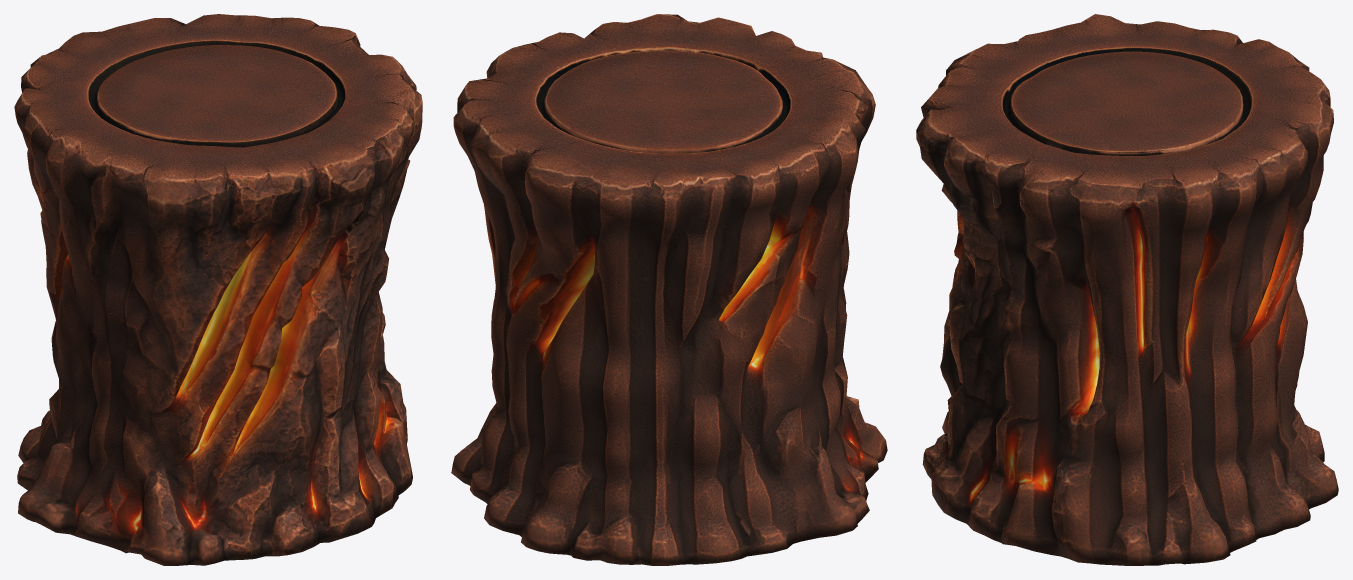
File: battleStand.fbx.fbx
The picture shows the model from 3 angles, left to right: view 1: azimuth 30°, elevation 25°; view 2: azimuth 150°, elevation 25°; view 3: azimuth 270°, elevation 25°; orthographic projection.
Parts seen in each view (by area): view 1: tripo_61a50983_4ac2_42df_8549_9e54bf2809; view 2: tripo_61a50983_4ac2_42df_8549_9e54bf2809; view 3: tripo_61a50983_4ac2_42df_8549_9e54bf2809.
Boxes of the visible parts, x1,y1,x2,y2 form: tripo_61a50983_4ac2_42df_8549_9e54bf2809: [14, 14, 422, 565]; tripo_61a50983_4ac2_42df_8549_9e54bf2809: [451, 14, 887, 565]; tripo_61a50983_4ac2_42df_8549_9e54bf2809: [916, 14, 1338, 565].
Size of the model in its own units: 1 by 1 by 0.9746.
